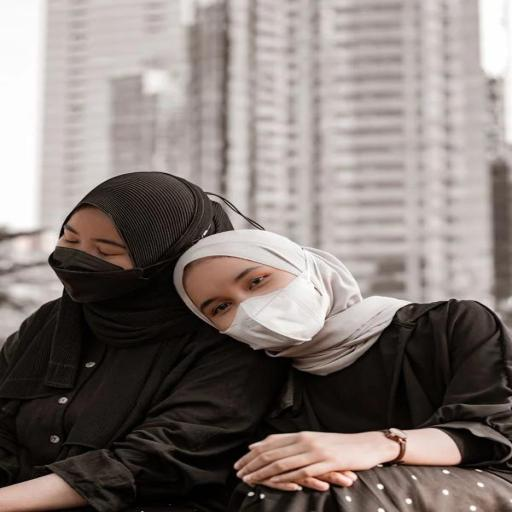mask: (195, 250, 336, 366), (41, 201, 148, 312)
